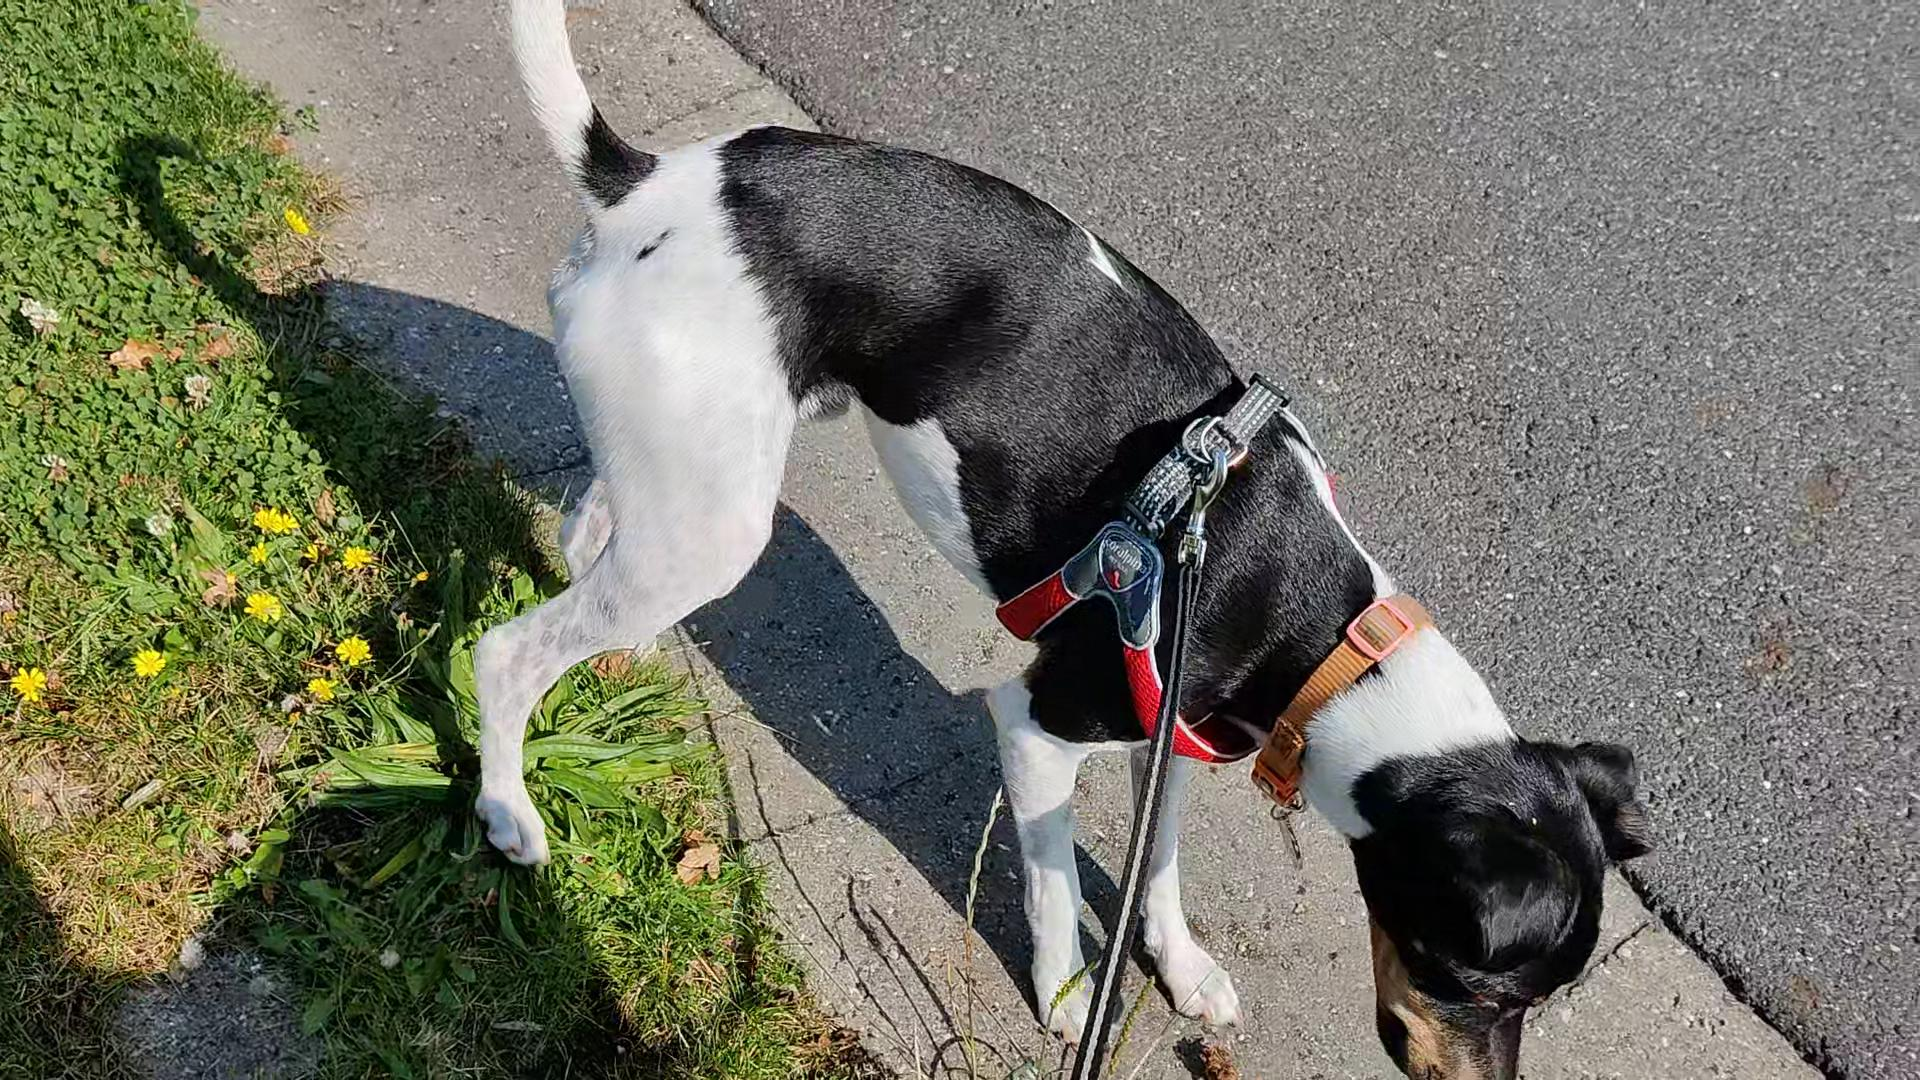Dog: (463, 0, 1656, 1080)
